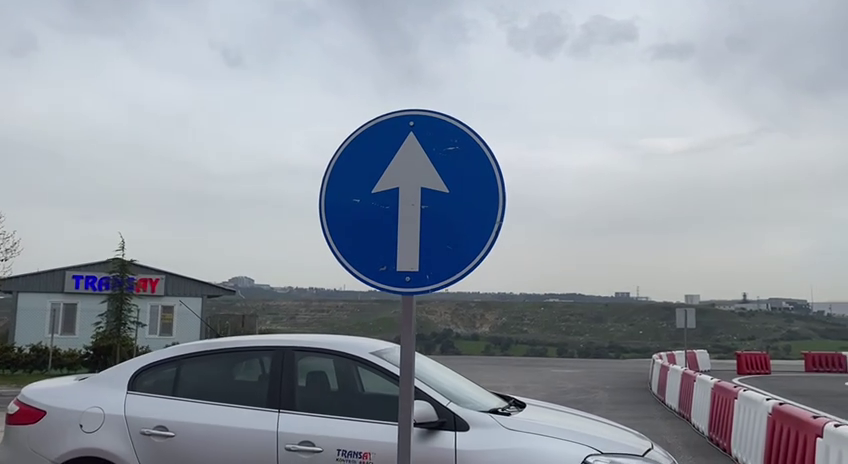forward: (314, 106, 509, 300)
